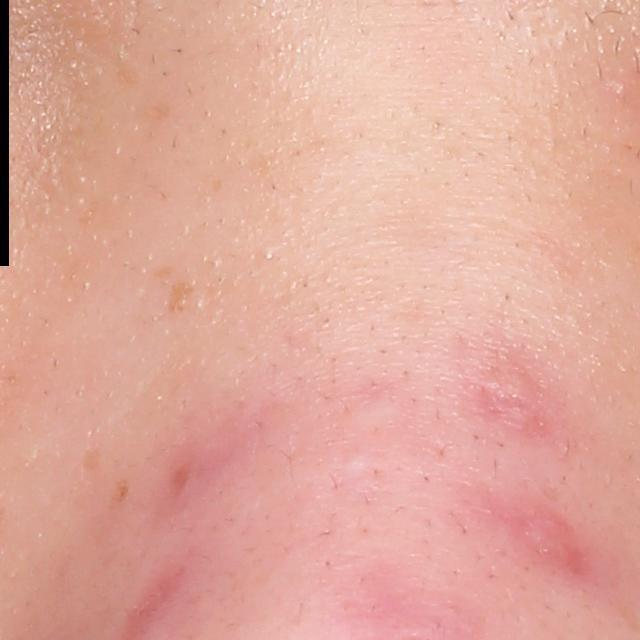papule: (523, 515, 581, 565)
